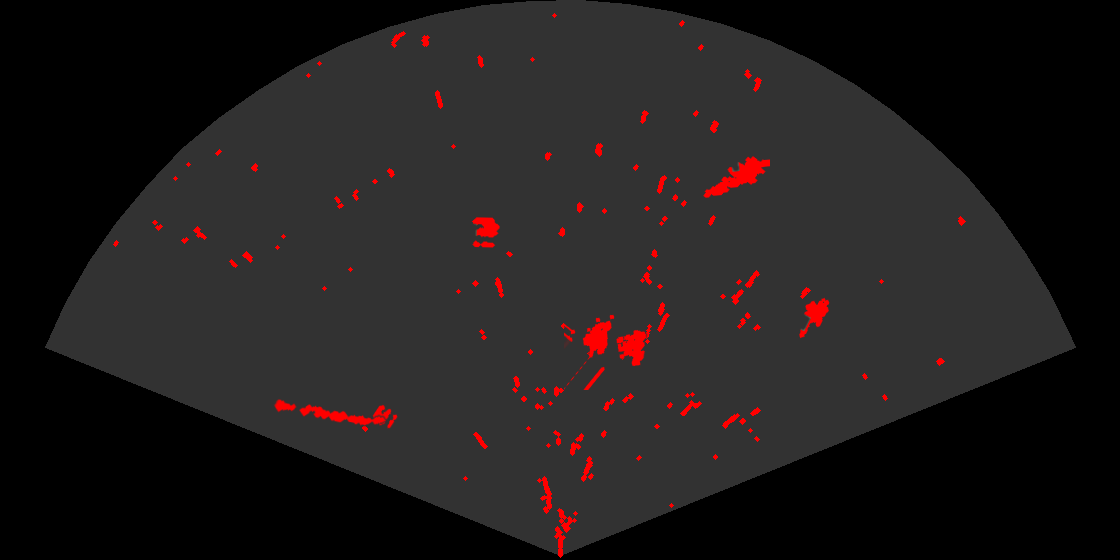AUV: (798, 296, 831, 340)
ball: (470, 216, 501, 249), (371, 403, 399, 430)
cage: (564, 313, 648, 390)
chain: (272, 398, 387, 427)
frogman: (702, 155, 770, 199)
